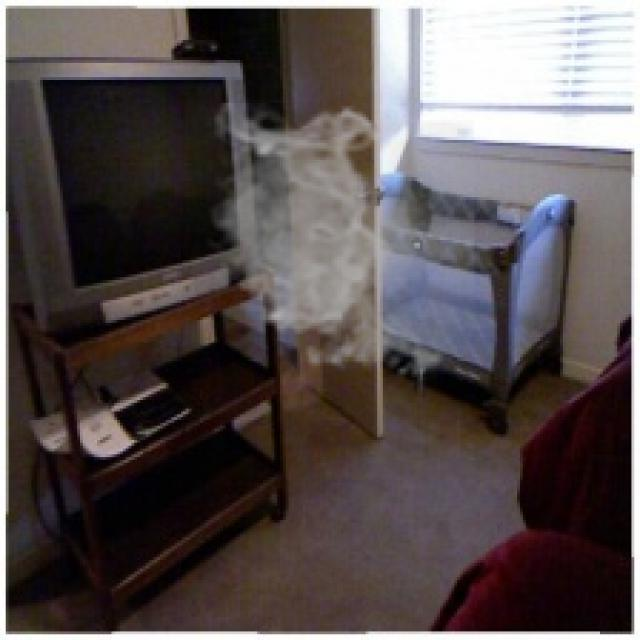Smoke: (200, 103, 474, 386)
